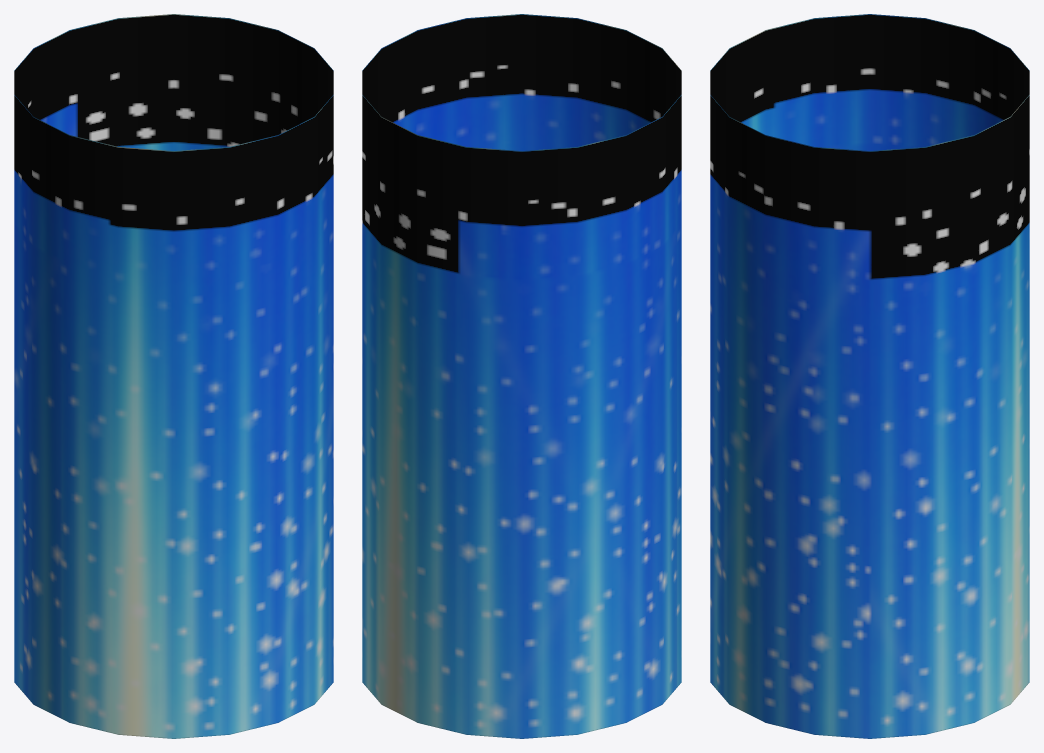
The picture shows the model from 3 angles, left to right: view 1: azimuth 30°, elevation 25°; view 2: azimuth 150°, elevation 25°; view 3: azimuth 270°, elevation 25°; orthographic projection.
Visible parts, largest first — view 1: Cylinder002; view 2: Cylinder002; view 3: Cylinder002.
Part boxes in pixels (bbox=[...]): Cylinder002: bbox=[14, 14, 333, 738]; Cylinder002: bbox=[362, 14, 681, 738]; Cylinder002: bbox=[710, 14, 1029, 738].
Bounding box in the file's own units: 118 × 236 × 116.
Materials: 1 (1 with a texture image).
